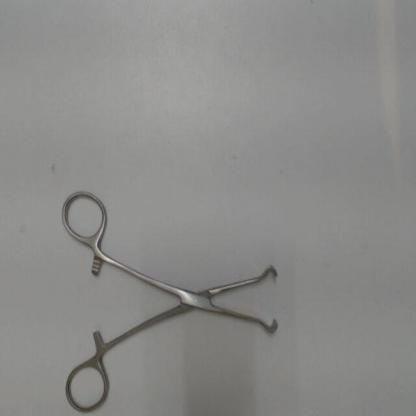Babcock Tissue Forceps: (58, 186, 283, 414)
